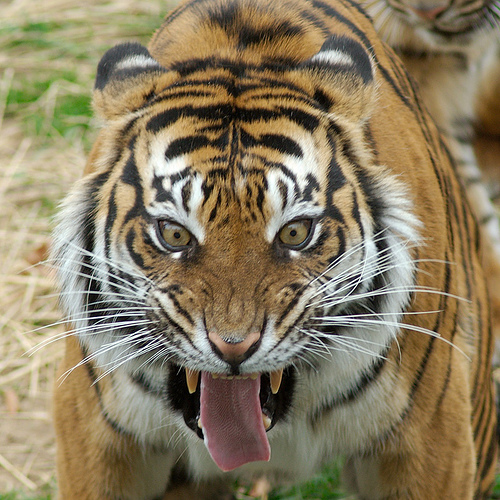Tigre: (90, 10, 478, 470)
